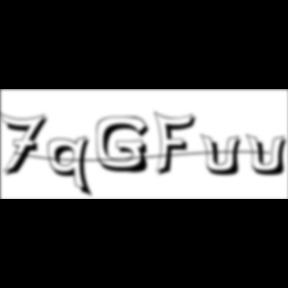7: (0, 111, 54, 179)
F: (154, 110, 202, 178)
G: (96, 116, 156, 176)
q: (48, 135, 97, 200)
u: (200, 132, 248, 178)
